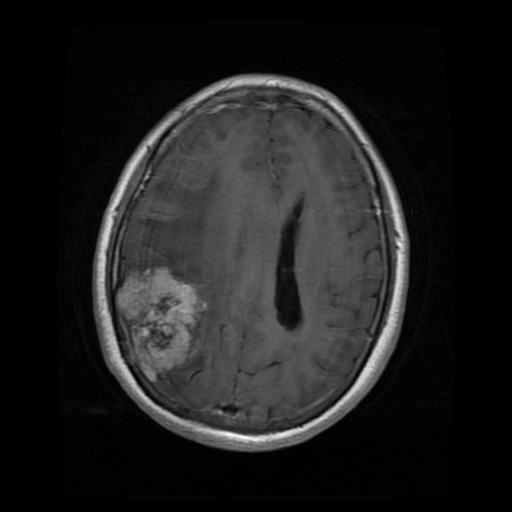Tumour-Meningioma: (107, 256, 234, 386)
